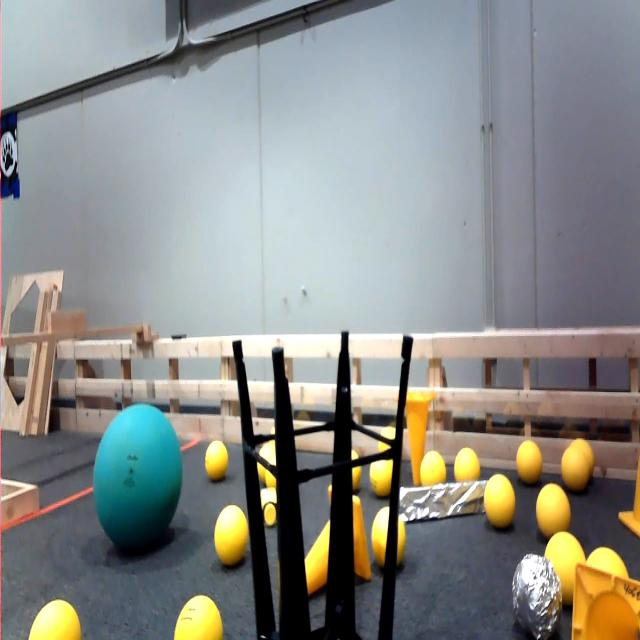fuel: (20, 585, 90, 640), (541, 525, 586, 607), (168, 583, 232, 640), (529, 468, 578, 538), (211, 497, 253, 576), (369, 503, 412, 575), (581, 540, 637, 590), (480, 469, 518, 534), (512, 430, 548, 490), (449, 434, 486, 492), (414, 442, 448, 493), (200, 434, 233, 486), (560, 445, 592, 496), (364, 451, 396, 499), (371, 413, 404, 457)
